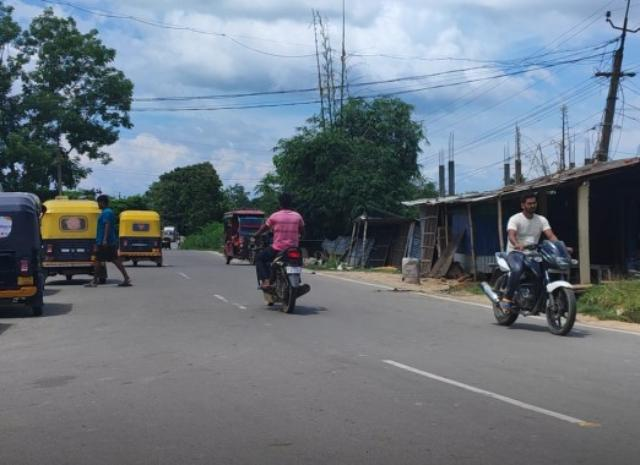licensePlate: (284, 263, 303, 277)
motorcycle: (477, 193, 584, 338), (253, 189, 314, 314)
withoutHelmet: (277, 195, 297, 213), (522, 196, 540, 214)
